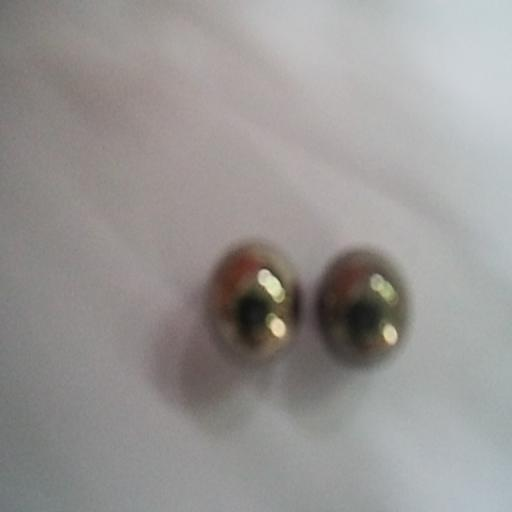steel-ball: (318, 234, 412, 379), (204, 238, 302, 364)
